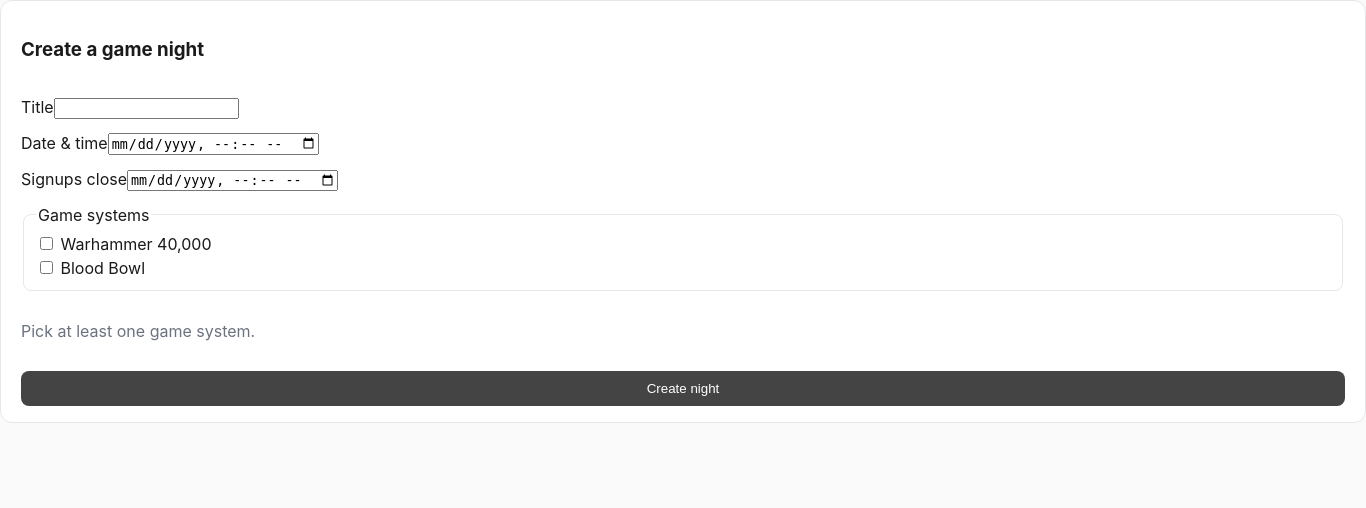
Test: CreateNightForm › creates a night with the chosen systems
Type "Thursday Night" into the field labelled "Title" at (146, 108), box [54,98,239,118]
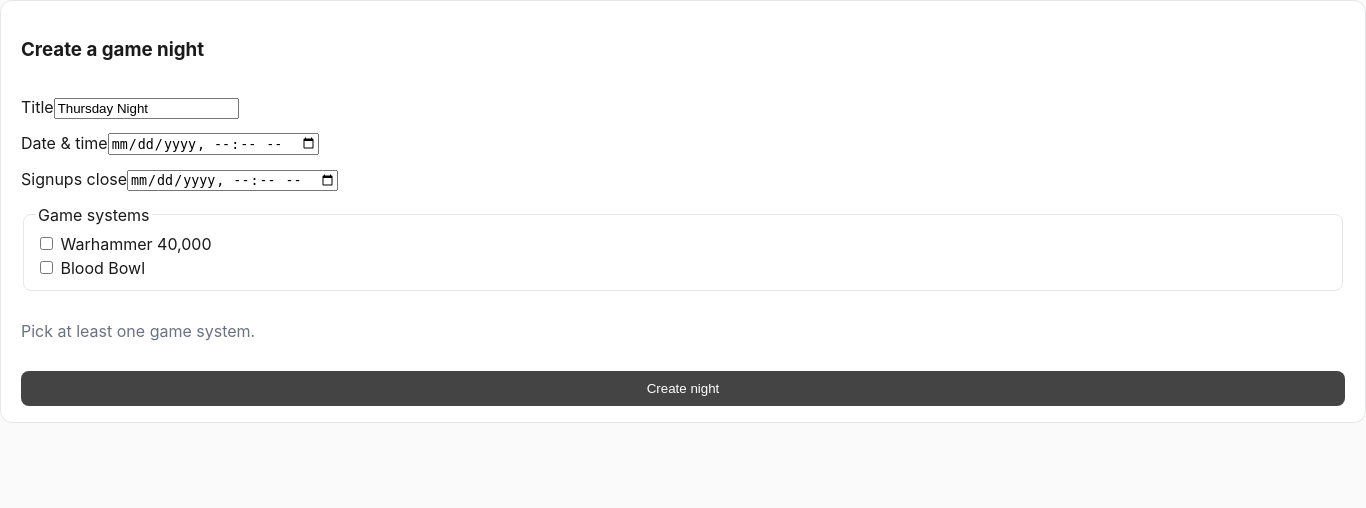
Type "2026-07-02T18:00" into the field labelled "Date & time" at (213, 144), box [108,133,319,155]
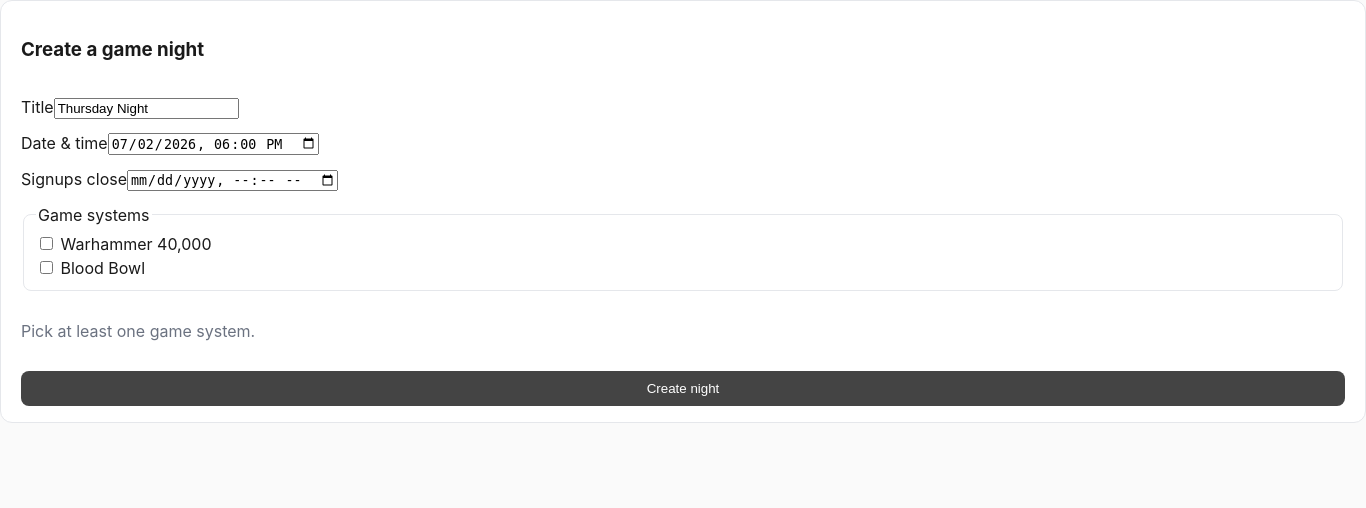
Type "2026-07-02T12:00" into the field labelled "Signups close" at (233, 180), box [127,170,338,191]
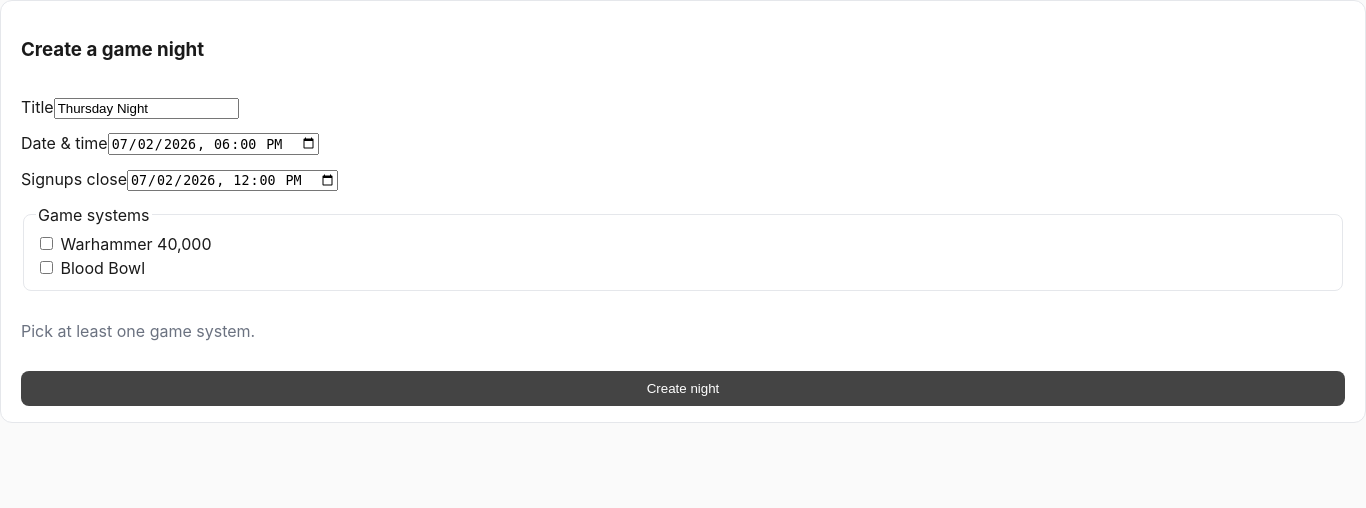
Click the checkbox labelled "Blood Bowl" at (46, 268), box [40,262,53,274]
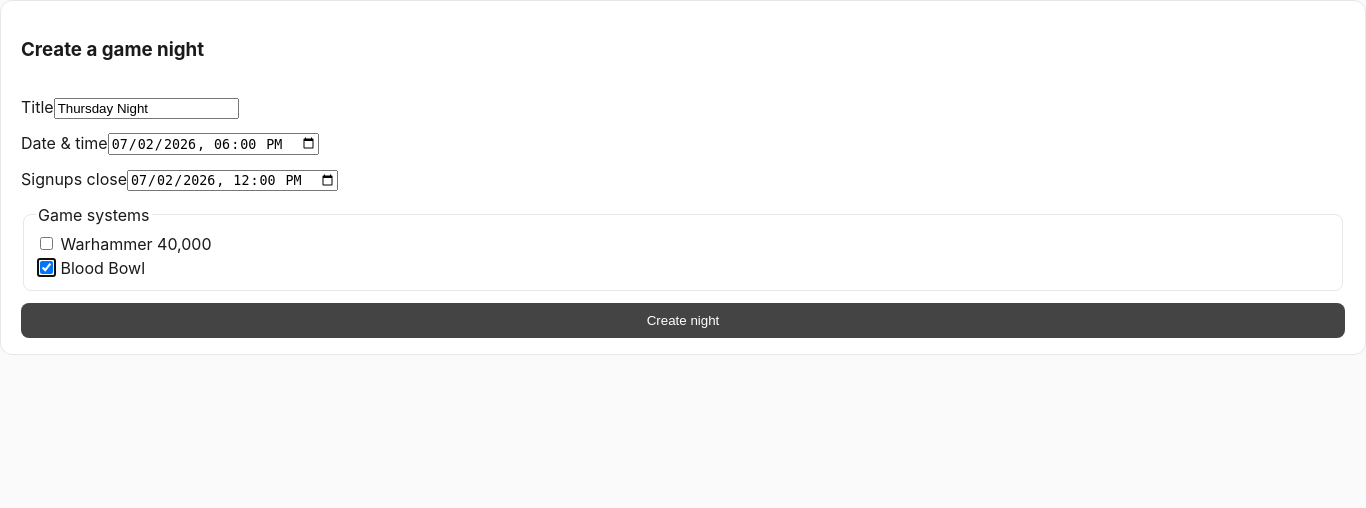
Click the button "Create night" at (683, 321), box [21,304,1345,338]
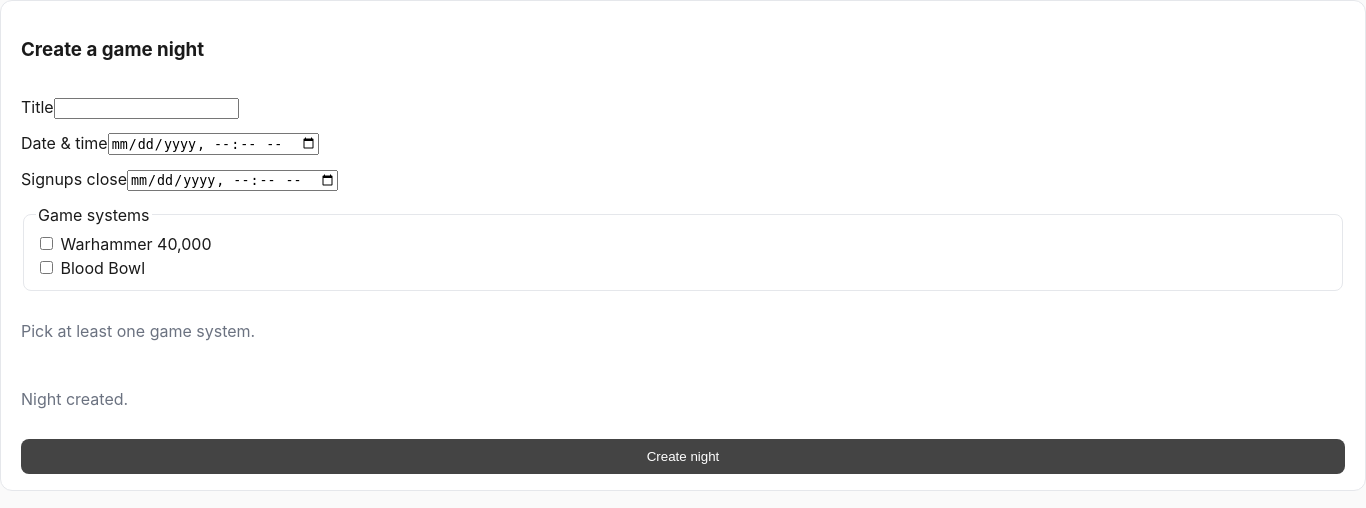
Now the message shows "created", box [21,390,128,410]
